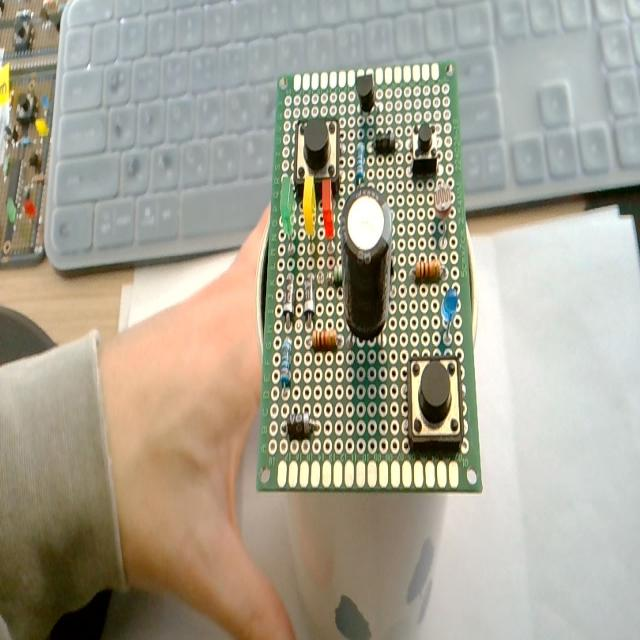Electrolytic capacitor: (341, 184, 394, 356)
cds: (430, 182, 454, 244)
diode: (279, 401, 324, 443), (372, 120, 398, 155), (280, 274, 296, 327), (301, 274, 316, 324)
led: (296, 170, 318, 258), (321, 169, 339, 265), (280, 177, 298, 262)
resistor: (304, 325, 352, 355), (408, 252, 452, 284), (277, 331, 295, 401)
switch: (406, 348, 466, 456), (289, 111, 341, 189), (408, 111, 442, 180)
transistor: (354, 72, 386, 120)
